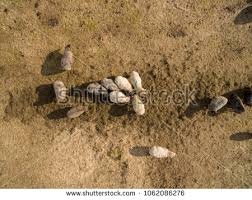sheep: (128, 70, 148, 93), (148, 144, 176, 160), (65, 105, 89, 121), (114, 73, 133, 93), (207, 96, 228, 114), (52, 78, 67, 102), (131, 94, 147, 116), (85, 81, 106, 96), (60, 48, 74, 70), (109, 91, 130, 104), (103, 78, 119, 93)
